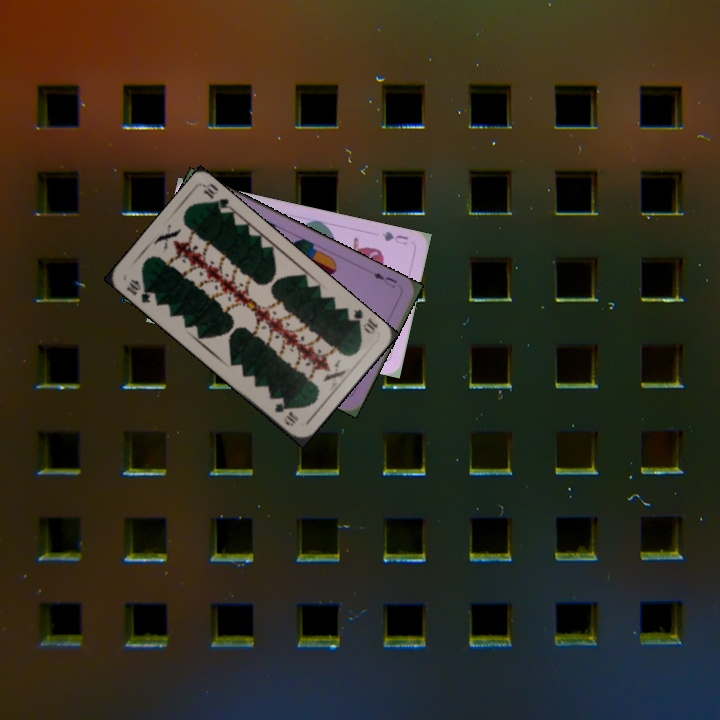EU: (369, 268, 400, 291)
G10: (343, 305, 381, 336), (122, 275, 155, 306)
GU: (378, 227, 410, 247)
